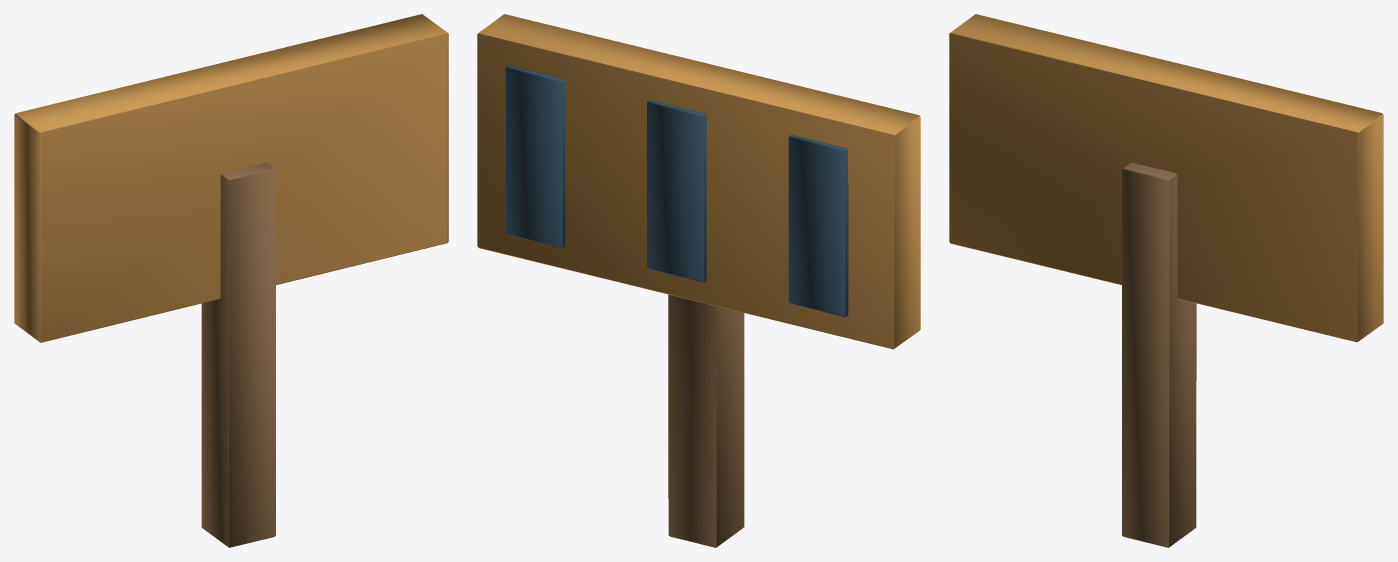
Rendered from stepstones_stage0_low.glb.
The picture shows the model from 3 angles, left to right: view 1: azimuth 30°, elevation 25°; view 2: azimuth 150°, elevation 25°; view 3: azimuth 330°, elevation 25°; orthographic projection. The views are drawn at different scales.
Size of the model in its own units: 0.65 by 0.69 by 0.1035.
